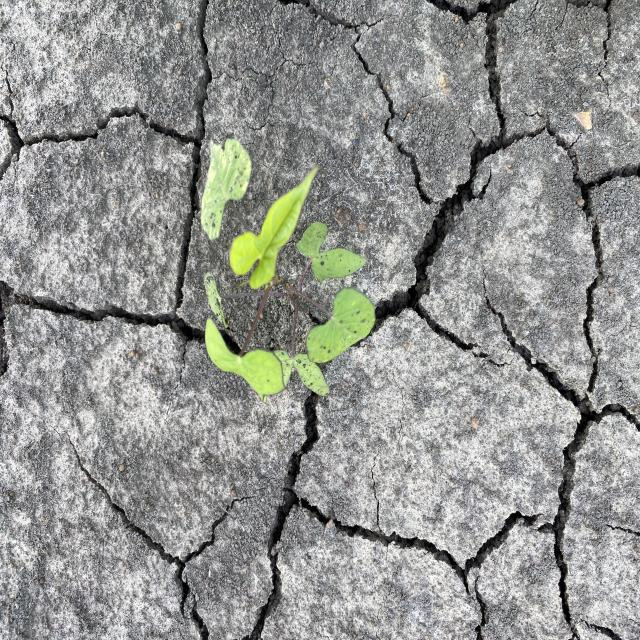MorningGlory: (200, 138, 378, 404)
